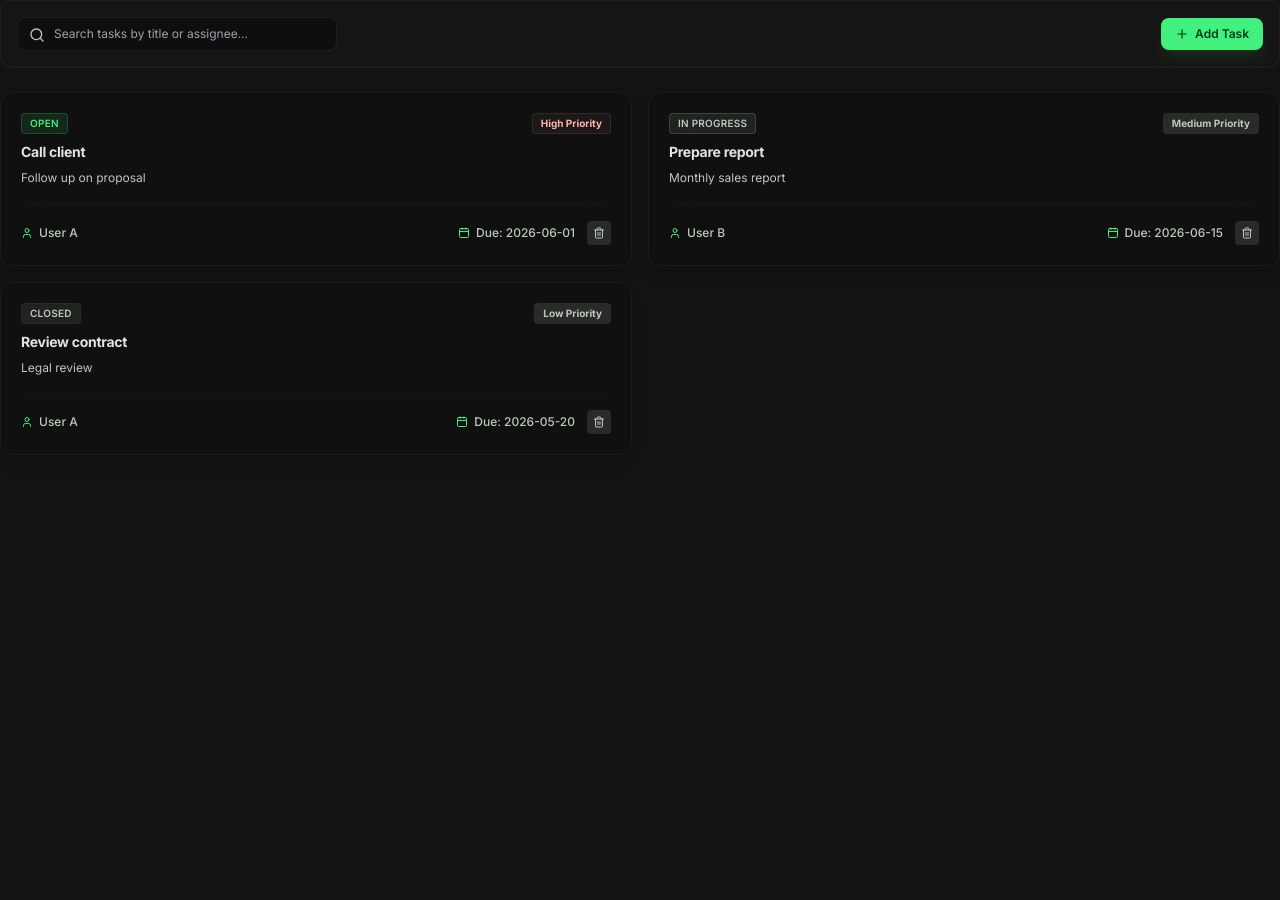
Scenario: Tasks Page › opens add task modal
The image size is (1280, 900).
Check: the heading "Call client" is shown, box [21, 143, 85, 160]
Click the button "Add Task": (1212, 34) [1161, 18, 1263, 50]
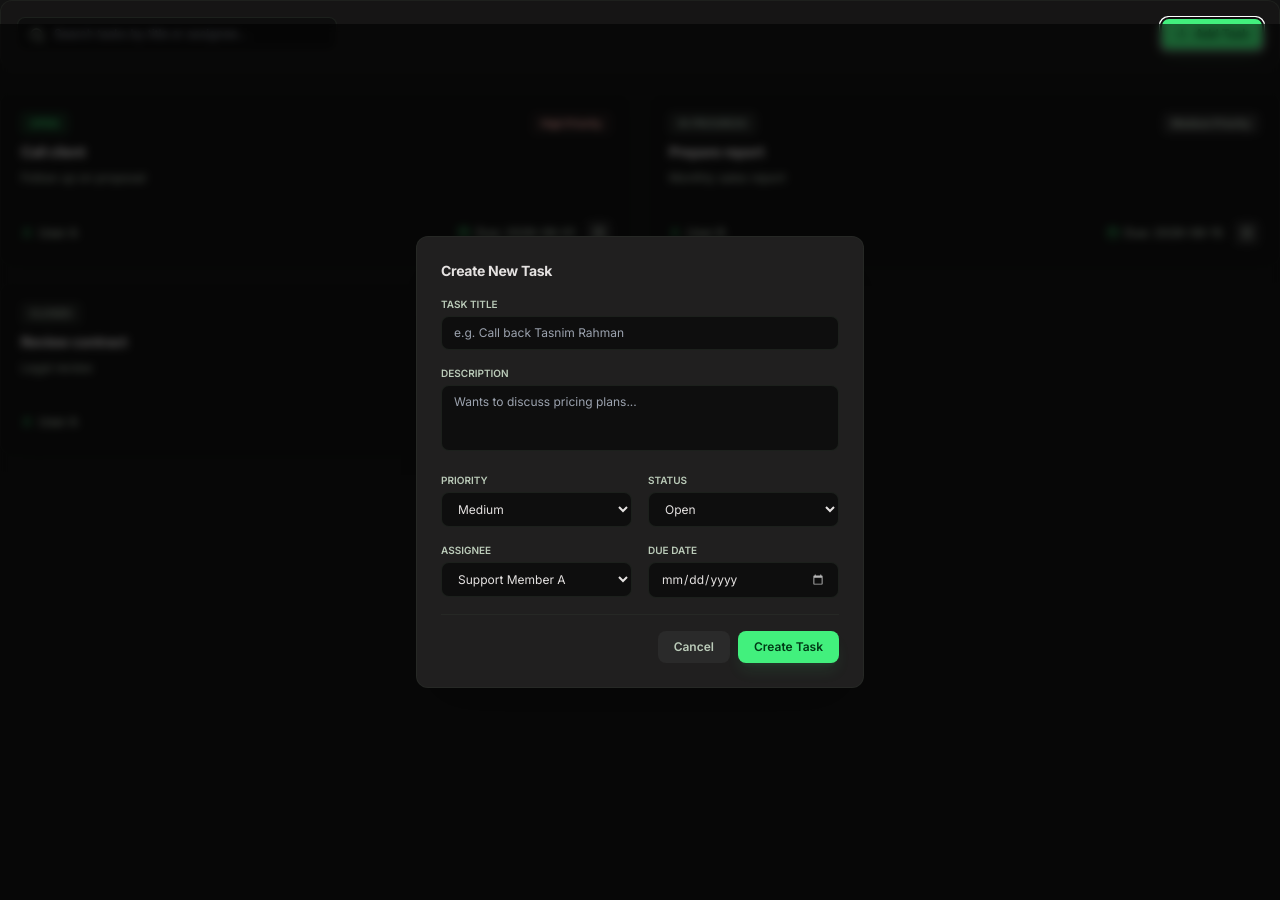
Check: the heading "Create New Task" is shown, box [441, 262, 552, 279]
